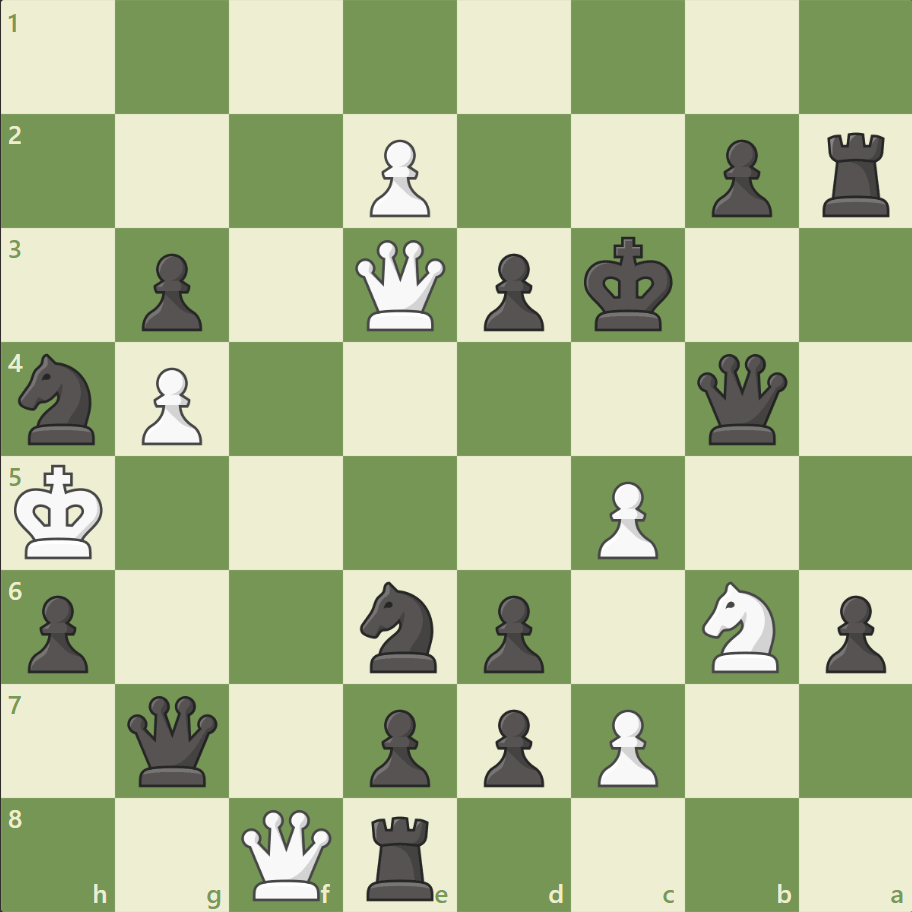K: (11, 458, 111, 566)
N: (692, 575, 789, 677)
P: (133, 359, 208, 450), (588, 700, 662, 791), (588, 473, 662, 564), (361, 132, 435, 223)
Q: (237, 804, 336, 903), (351, 236, 450, 335)
k: (579, 231, 679, 339)
n: (351, 575, 449, 677), (11, 348, 108, 450)
p: (474, 700, 549, 791), (474, 586, 549, 677), (20, 586, 95, 677), (474, 246, 549, 337), (133, 246, 208, 337), (701, 132, 776, 223), (361, 700, 435, 791), (815, 586, 889, 677)
q: (691, 349, 790, 449), (124, 690, 223, 789)
r: (814, 125, 897, 222), (360, 806, 442, 904)
